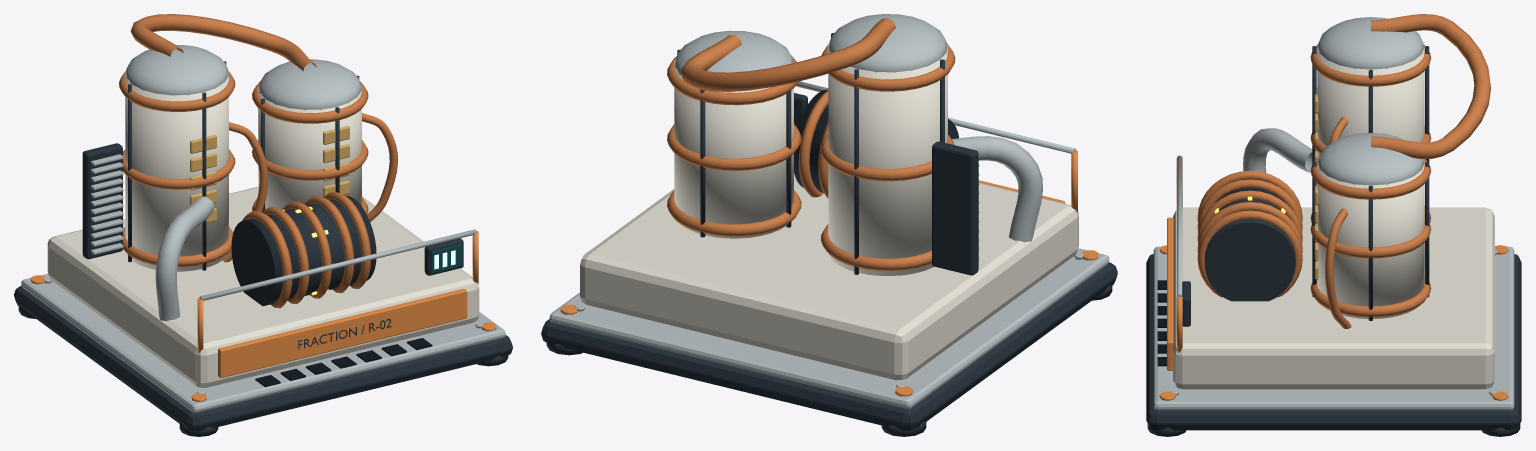
The model's file is refinery.glb.
The picture shows the model from 3 angles, left to right: view 1: azimuth 30°, elevation 25°; view 2: azimuth 150°, elevation 25°; view 3: azimuth 270°, elevation 25°; orthographic projection. The views are drawn at different scales.
Visible parts, largest first — view 1: refinery_ROOT__01_Ivory_ceramic, refinery_ROOT__07_Machined_titanium, refinery_ROOT__02_Graphite_chassis, refinery_ROOT__04_Burnished_copper, refinery_ROOT__06_Mission_orange, Induction_rotor__02_Graphite_chassis, Induction_rotor__04_Burnished_copper, refinery_ROOT__05_Gold_thermal_blanket, refinery_ROOT__03_Carbon_seals, refinery_ROOT__09_Instrument_glass; view 2: refinery_ROOT__01_Ivory_ceramic, refinery_ROOT__07_Machined_titanium, refinery_ROOT__02_Graphite_chassis, refinery_ROOT__04_Burnished_copper, Induction_rotor__04_Burnished_copper, Induction_rotor__02_Graphite_chassis, refinery_ROOT__06_Mission_orange; view 3: refinery_ROOT__01_Ivory_ceramic, refinery_ROOT__07_Machined_titanium, refinery_ROOT__02_Graphite_chassis, refinery_ROOT__04_Burnished_copper, Induction_rotor__02_Graphite_chassis, Induction_rotor__04_Burnished_copper, refinery_ROOT__06_Mission_orange, refinery_ROOT__03_Carbon_seals, refinery_ROOT__05_Gold_thermal_blanket.
Boxes of the visible parts, bbox=[...] form: refinery_ROOT__01_Ivory_ceramic: bbox=[47, 70, 479, 387]; refinery_ROOT__07_Machined_titanium: bbox=[21, 45, 505, 412]; refinery_ROOT__02_Graphite_chassis: bbox=[14, 61, 512, 436]; refinery_ROOT__04_Burnished_copper: bbox=[119, 14, 397, 266]; refinery_ROOT__06_Mission_orange: bbox=[30, 230, 496, 401]; Induction_rotor__02_Graphite_chassis: bbox=[231, 195, 376, 306]; Induction_rotor__04_Burnished_copper: bbox=[242, 192, 370, 308]; refinery_ROOT__05_Gold_thermal_blanket: bbox=[190, 126, 349, 224]; refinery_ROOT__03_Carbon_seals: bbox=[255, 338, 432, 387]; refinery_ROOT__09_Instrument_glass: bbox=[431, 244, 462, 273]; refinery_ROOT__01_Ivory_ceramic: bbox=[580, 43, 1078, 380]; refinery_ROOT__07_Machined_titanium: bbox=[549, 14, 1109, 409]; refinery_ROOT__02_Graphite_chassis: bbox=[541, 33, 1117, 436]; refinery_ROOT__04_Burnished_copper: bbox=[667, 18, 955, 270]; Induction_rotor__04_Burnished_copper: bbox=[798, 90, 828, 198]; Induction_rotor__02_Graphite_chassis: bbox=[794, 89, 958, 192]; refinery_ROOT__06_Mission_orange: bbox=[560, 150, 1098, 396]; refinery_ROOT__01_Ivory_ceramic: bbox=[1173, 41, 1494, 389]; refinery_ROOT__07_Machined_titanium: bbox=[1153, 17, 1514, 410]; refinery_ROOT__02_Graphite_chassis: bbox=[1146, 46, 1521, 436]; refinery_ROOT__04_Burnished_copper: bbox=[1310, 14, 1490, 328]; Induction_rotor__02_Graphite_chassis: bbox=[1204, 179, 1295, 301]; Induction_rotor__04_Burnished_copper: bbox=[1197, 170, 1302, 297]; refinery_ROOT__06_Mission_orange: bbox=[1159, 158, 1508, 400]; refinery_ROOT__03_Carbon_seals: bbox=[1157, 280, 1166, 366]; refinery_ROOT__05_Gold_thermal_blanket: bbox=[1314, 88, 1318, 279].
Size of the model in its own units: 5.8 by 4.98 by 5.6.
